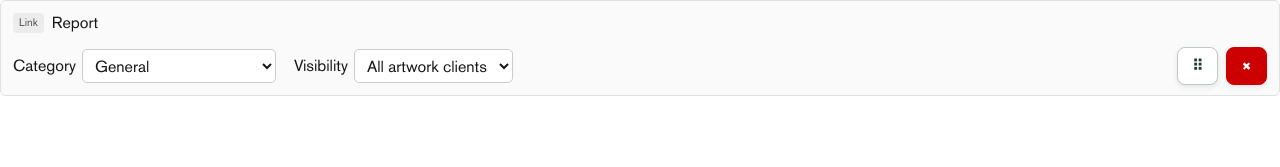
Test: editing existing document visibility › surfaces unconfirmed change without reporting success
Select "Internal only" in the dropdown named "Report visibility". click: [433, 66]
box: [354,49,513,83]
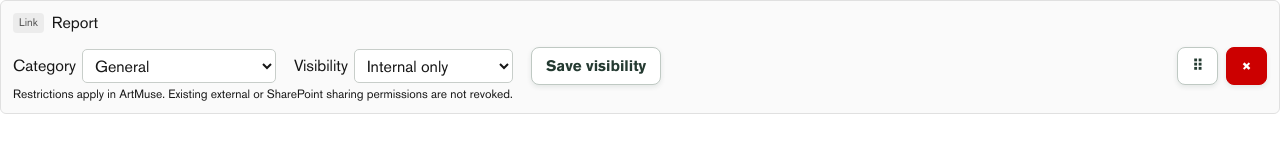
Click the button "Save visibility". click: [596, 66]
box: [531,47,661,85]
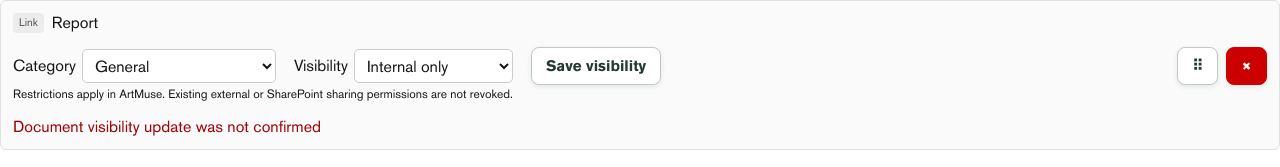
Expected: the message "Document visibility update was not confirmed" is shown, [13,117,321,136]
